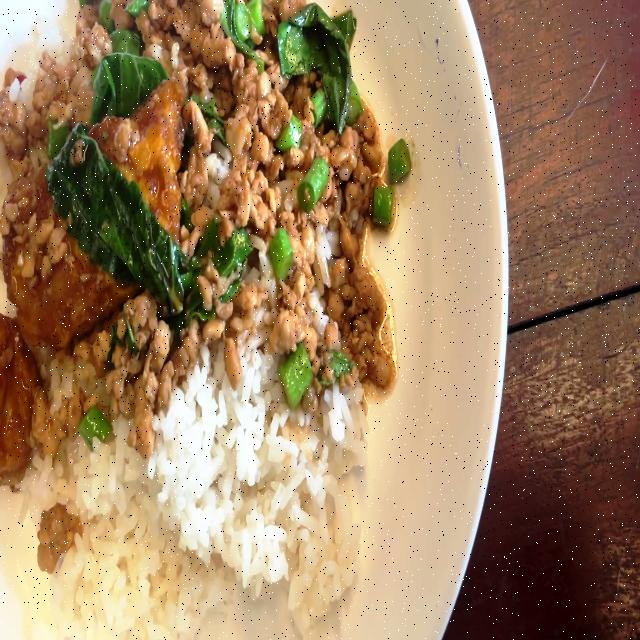fried_tofo: (13, 105, 174, 332), (0, 309, 33, 474)
minced_pork: (184, 106, 397, 375), (0, 0, 379, 106), (39, 307, 190, 442)
rice: (173, 388, 386, 607), (43, 438, 172, 630)
stir_fried_basil: (0, 0, 405, 624)
